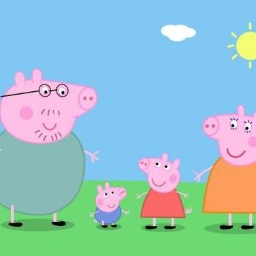Peppa: (136, 153, 189, 233)
